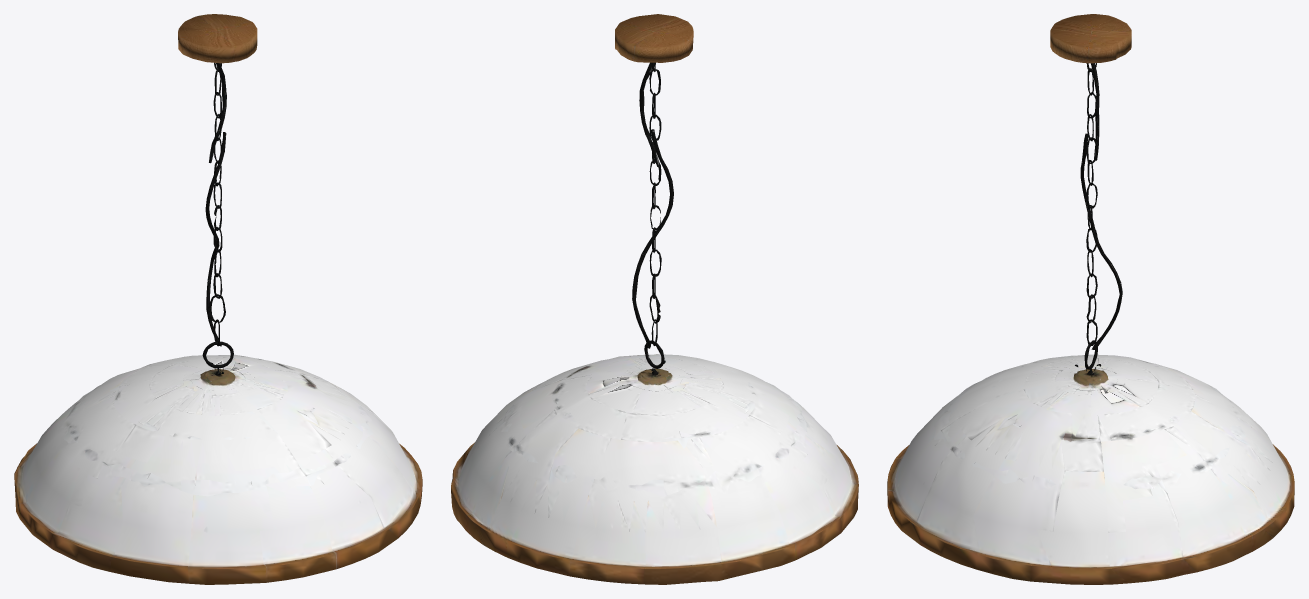
Rendered from pendant.glb.
3 views of the same model, side by side, from view 1: azimuth 30°, elevation 25°; view 2: azimuth 150°, elevation 25°; view 3: azimuth 270°, elevation 25° (orthographic).
Bounding box in the file's own units: 0.6655 × 0.9517 × 0.6655.
Materials: 1 (1 with a texture image).
